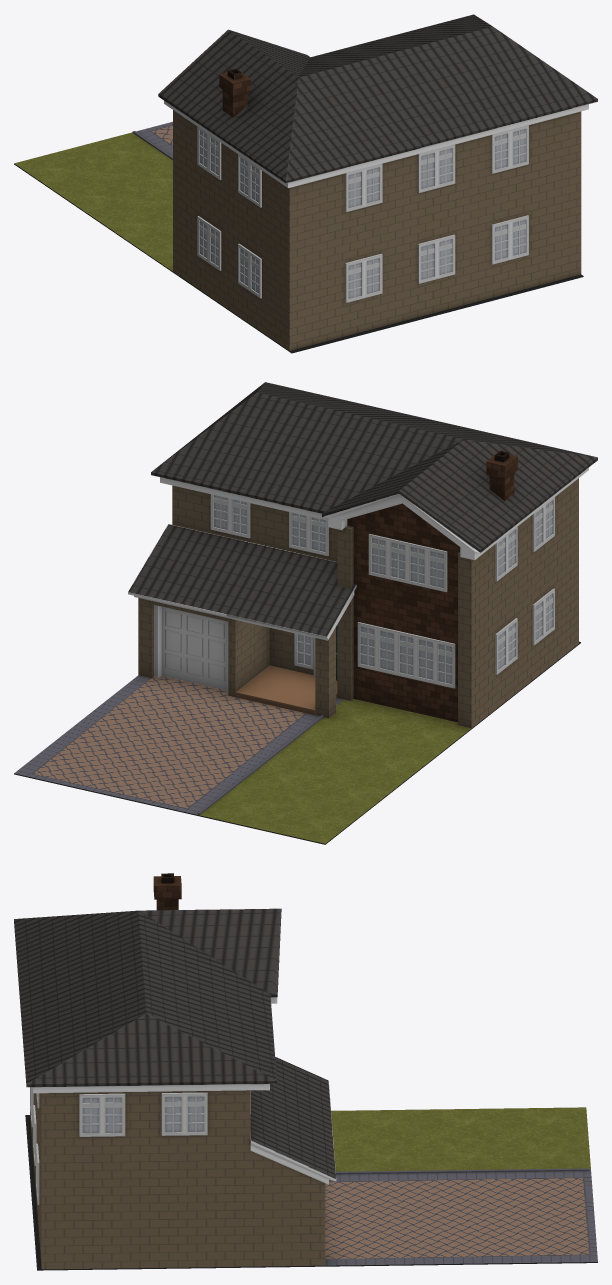
File: housewithdriveway_mesh_lev3.glb
The picture shows the model from 3 angles, top to bottom: view 1: azimuth 30°, elevation 25°; view 2: azimuth 150°, elevation 25°; view 3: azimuth 270°, elevation 25°; orthographic projection. The views are drawn at different scales.
Parts seen in each view (by area): view 1: housewithdriveway_mesh_lev3; view 2: housewithdriveway_mesh_lev3; view 3: housewithdriveway_mesh_lev3.
Boxes of the visible parts, x1,y1,x2,y2 form: housewithdriveway_mesh_lev3: (14, 14, 597, 353); housewithdriveway_mesh_lev3: (14, 382, 597, 844); housewithdriveway_mesh_lev3: (14, 873, 597, 1270).
Bounding box in the file's own units: 12.83 × 8.7 × 18.76.
Materials: 1 (1 with a texture image).
